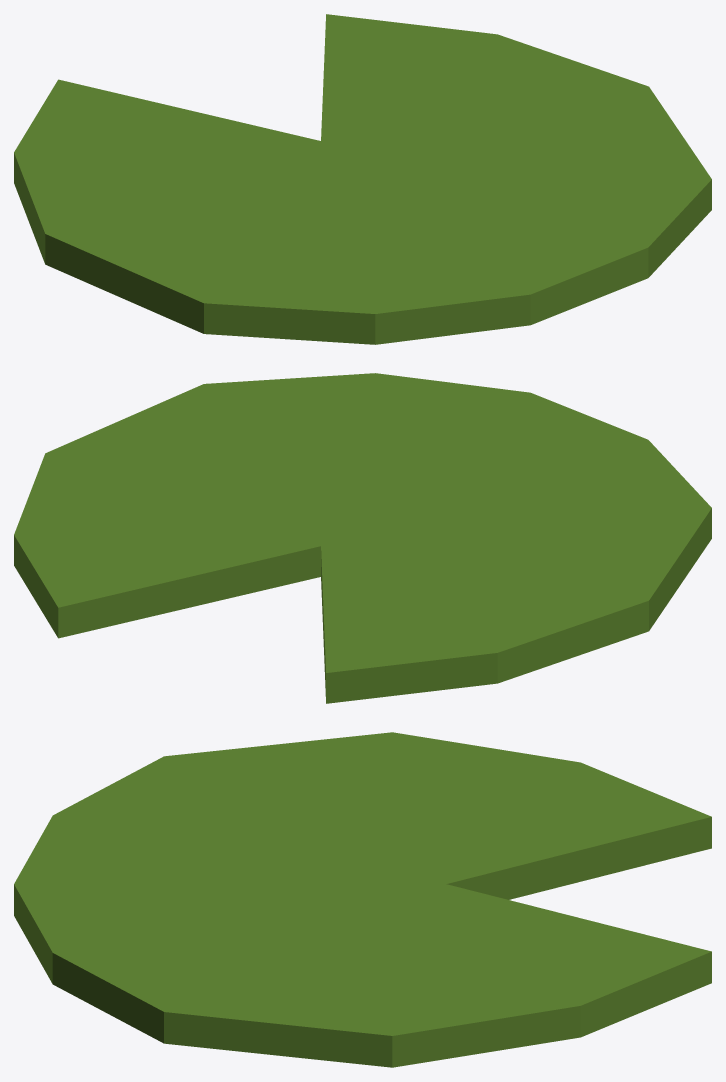
Rendered from BigLillypad.fbx.
3 views of the same model, one above another, from view 1: azimuth 30°, elevation 25°; view 2: azimuth 150°, elevation 25°; view 3: azimuth 270°, elevation 25° (orthographic). The views are drawn at different scales.
Parts seen in each view (by area): view 1: Cylinder.001; view 2: Cylinder.001; view 3: Cylinder.001.
Part boxes in pixels (left/top/right/bottom): Cylinder.001: left=14, top=14, right=711, bottom=344; Cylinder.001: left=14, top=373, right=711, bottom=703; Cylinder.001: left=14, top=732, right=711, bottom=1067.
Bounding box in the file's own units: 0.1035 × 0.1005 × 0.00503.
